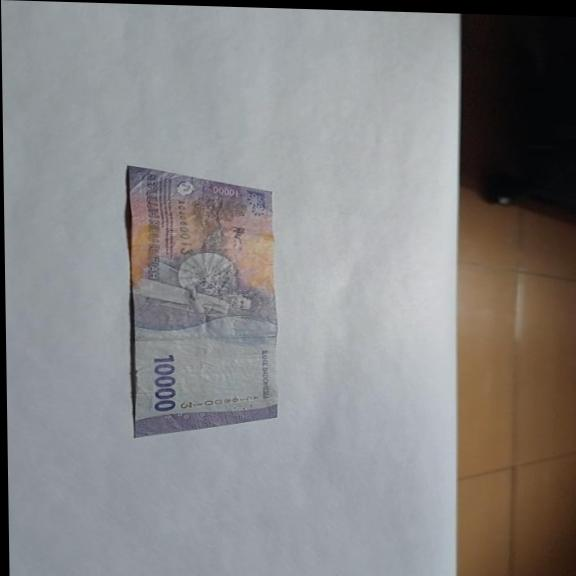Kertas: (123, 164, 281, 443)
